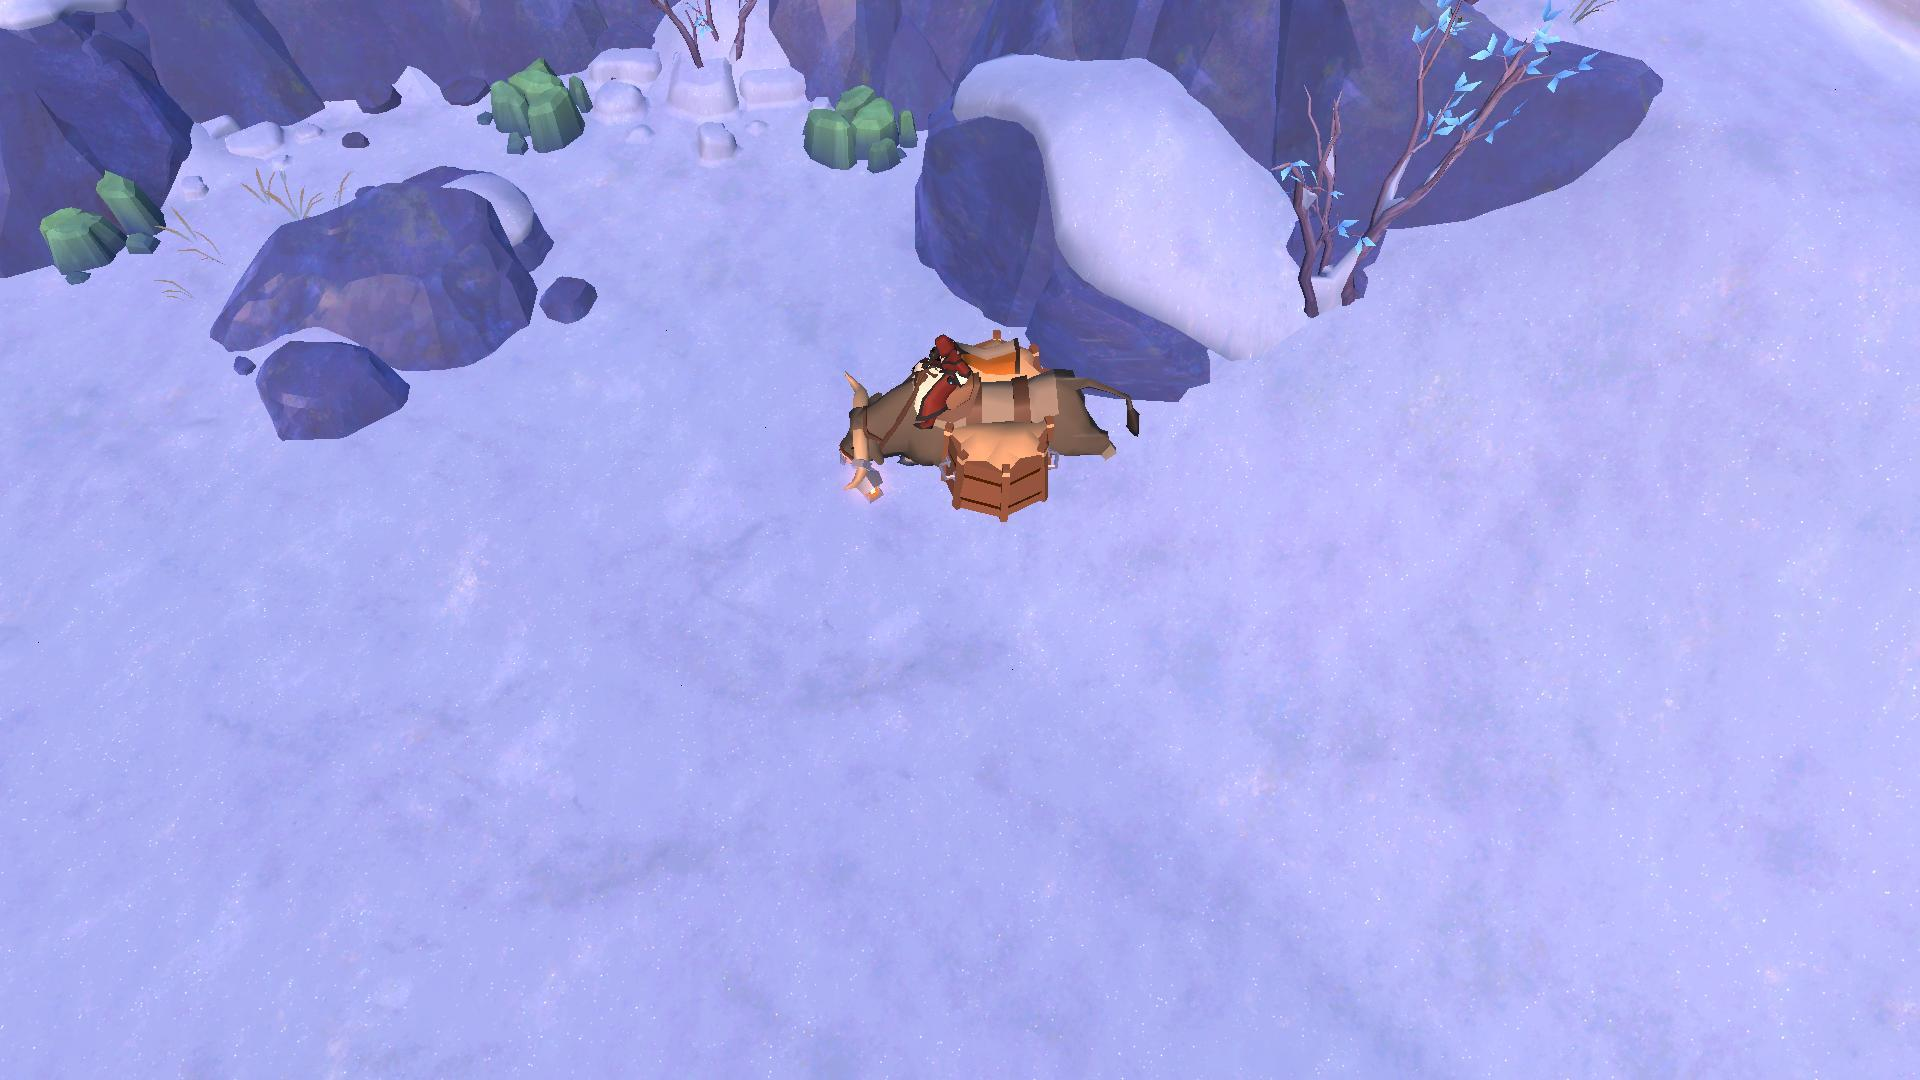rock_t3: (38, 167, 167, 287), (785, 84, 926, 181), (484, 54, 599, 160)
